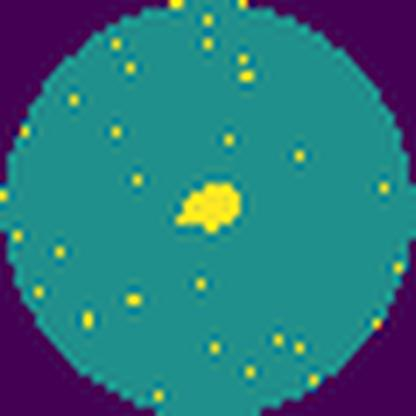Center: (175, 181, 242, 236)
